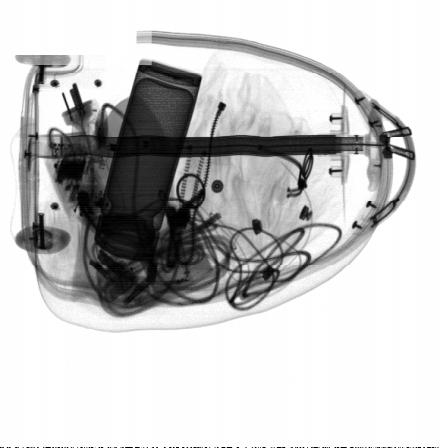Powerbank: (113, 217, 217, 312)
